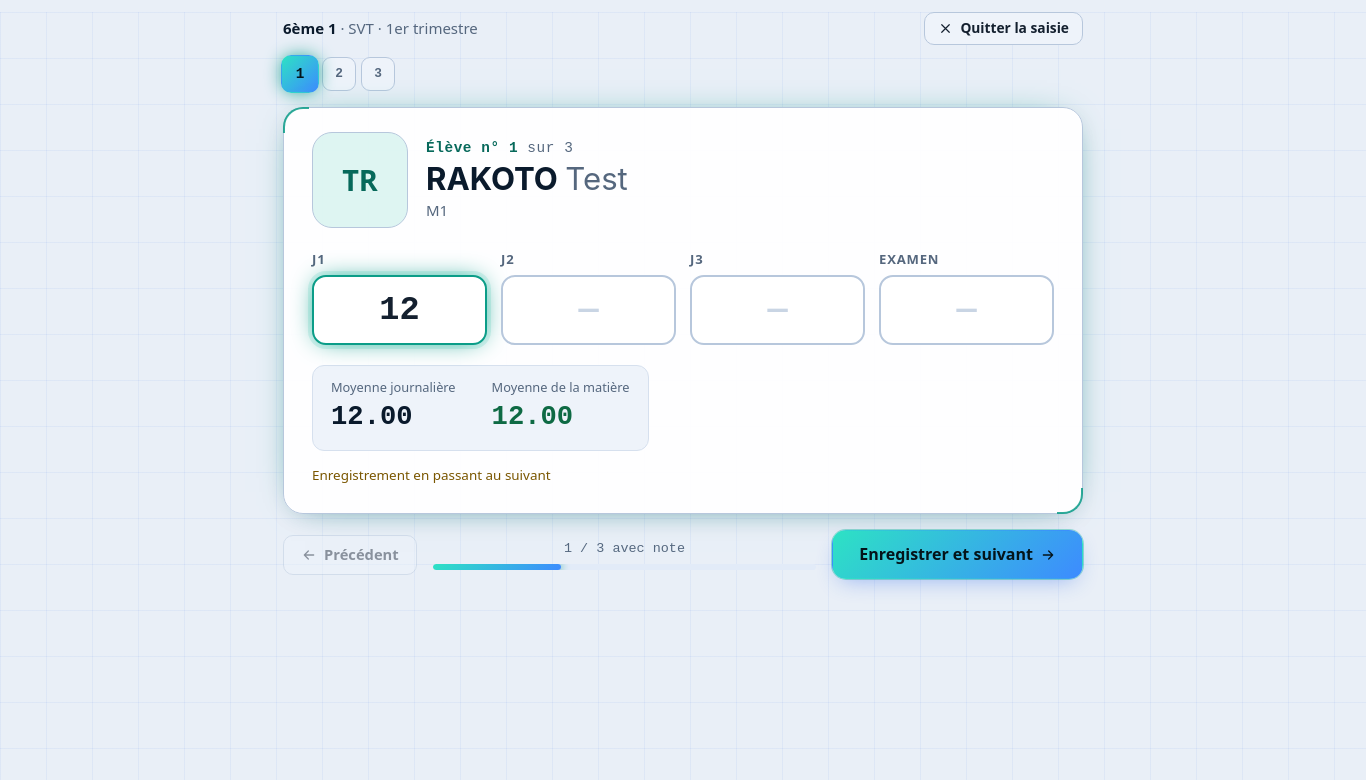
Test: « Suivant » enregistre l’élève modifié puis affiche le numéro 2
Click the button "Enregistrer et suivant".
click(958, 555)  # box [832, 530, 1083, 579]
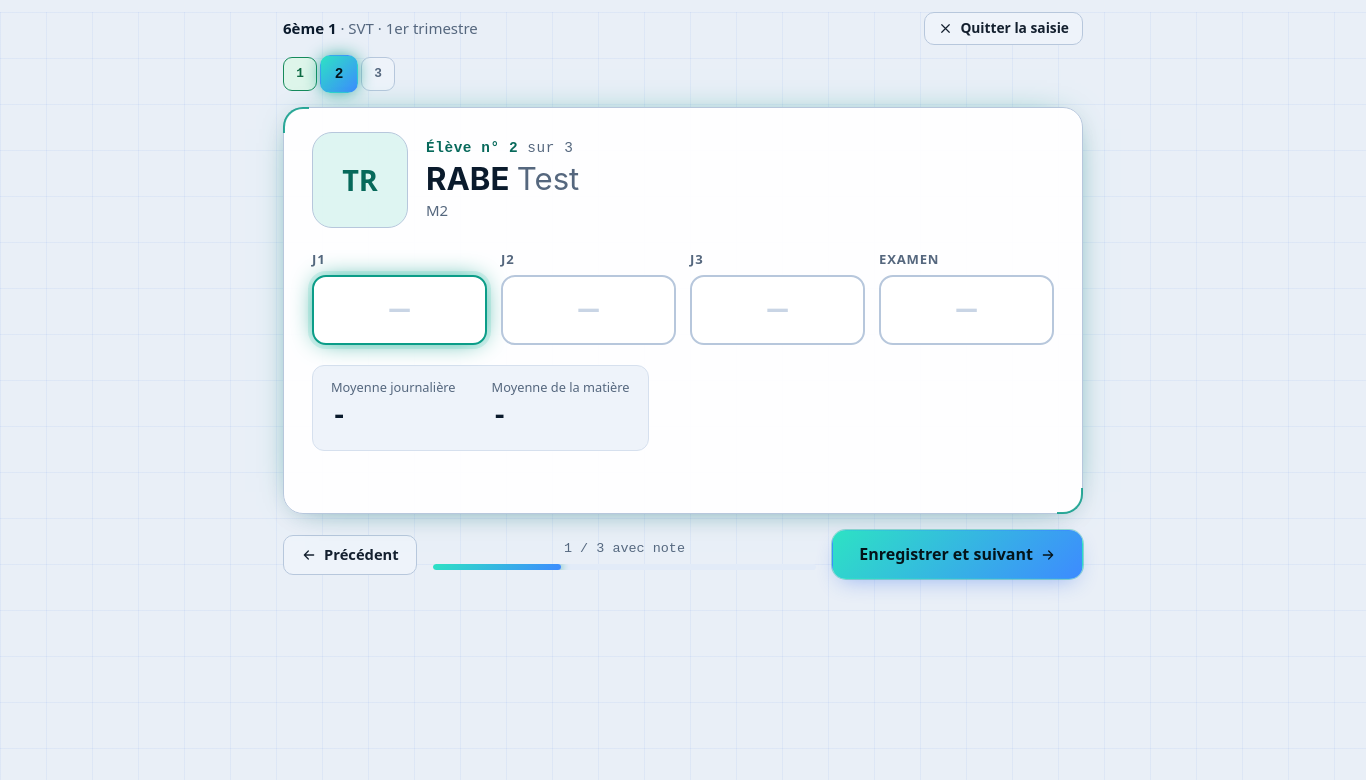
Now the text "Élève n° 2 sur 3" is shown, box [426, 138, 579, 159]
